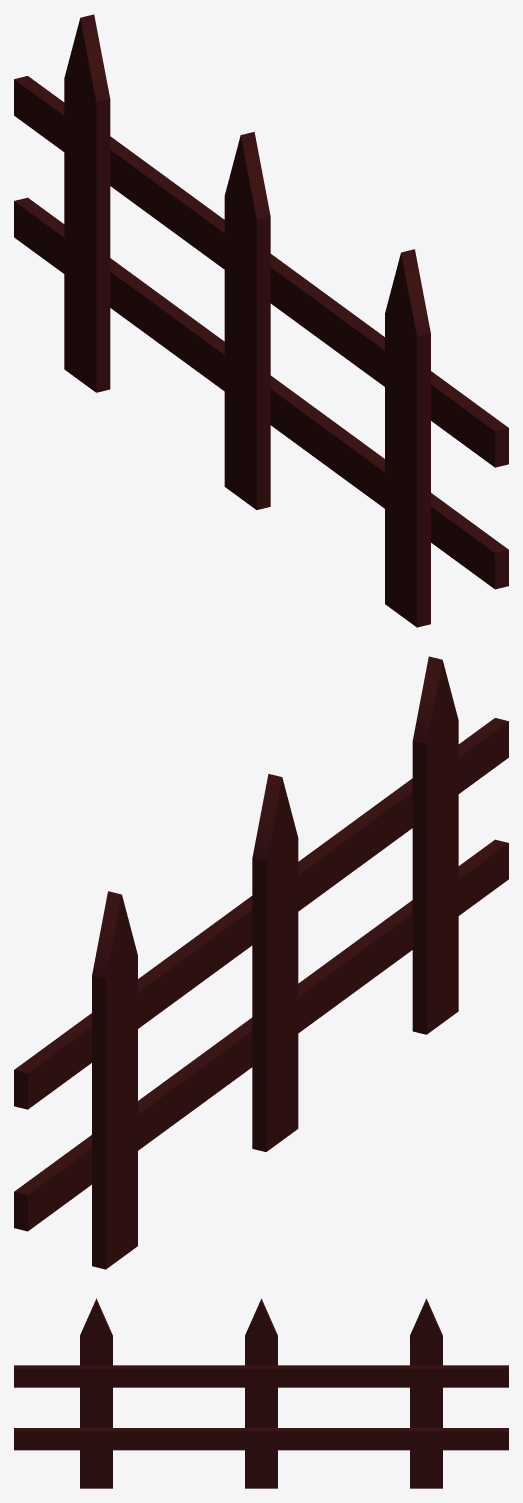
The model's file is fence.fbx.
3 renders of one model, top to bottom at view 1: azimuth 30°, elevation 25°; view 2: azimuth 150°, elevation 25°; view 3: azimuth 270°, elevation 25°, orthographic. The views are drawn at different scales.
Parts seen in each view (by area): view 1: Box001; view 2: Box001; view 3: Box001.
Part boxes in pixels (x1,y1,x2,y2): Box001: [14, 14, 508, 627]; Box001: [14, 656, 508, 1269]; Box001: [14, 1298, 508, 1488].
Size of the model in its own units: 4 by 50 by 120.
